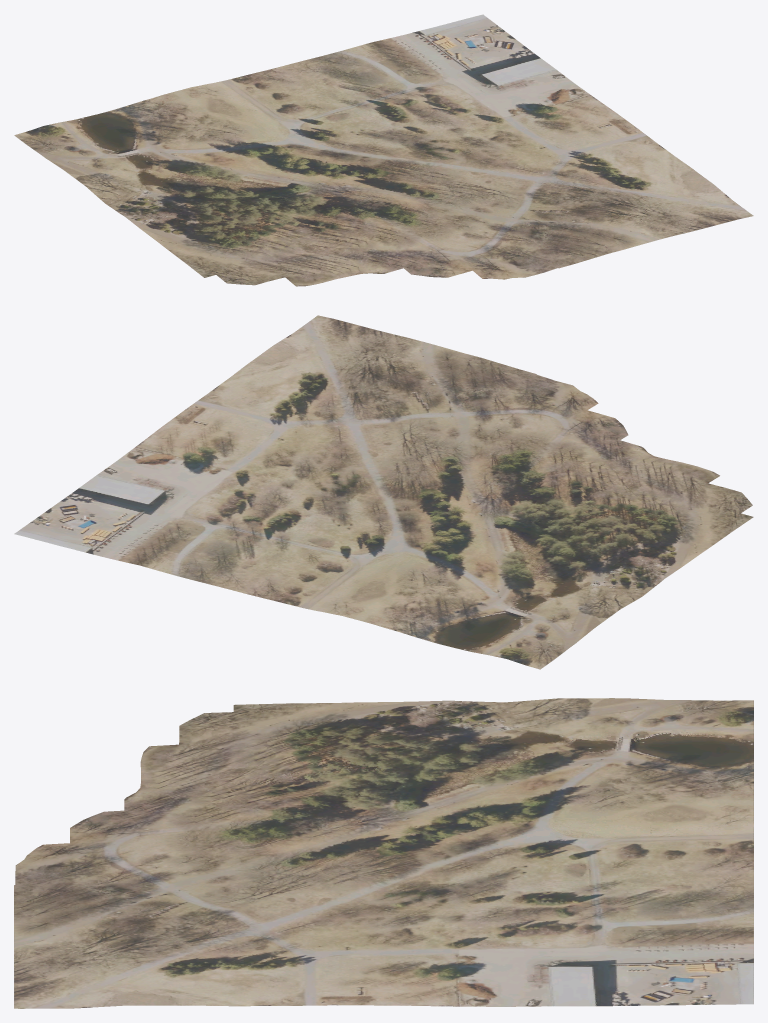
Rendered from CM_Terrain_24486773_6818975.fbx.
3 views of the same model, one above another, from view 1: azimuth 30°, elevation 25°; view 2: azimuth 150°, elevation 25°; view 3: azimuth 270°, elevation 25° (orthographic). The views are drawn at different scales.
Parts seen in each view (by area): view 1: CM_Terrain_24486773_6818975_LOD0; view 2: CM_Terrain_24486773_6818975_LOD0; view 3: CM_Terrain_24486773_6818975_LOD0.
Part boxes in pixels (box(x1,y1,x2,y2)): CM_Terrain_24486773_6818975_LOD0: box(14, 14, 753, 286); CM_Terrain_24486773_6818975_LOD0: box(14, 315, 753, 669); CM_Terrain_24486773_6818975_LOD0: box(14, 698, 753, 1008).
Size of what is drawn, in the model's own units: 205 by 4.42 by 205.
